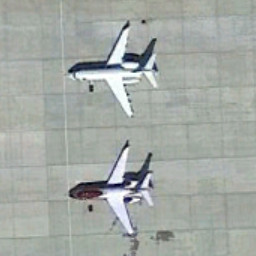Airplane: (58, 14, 166, 125), (56, 136, 162, 245)
